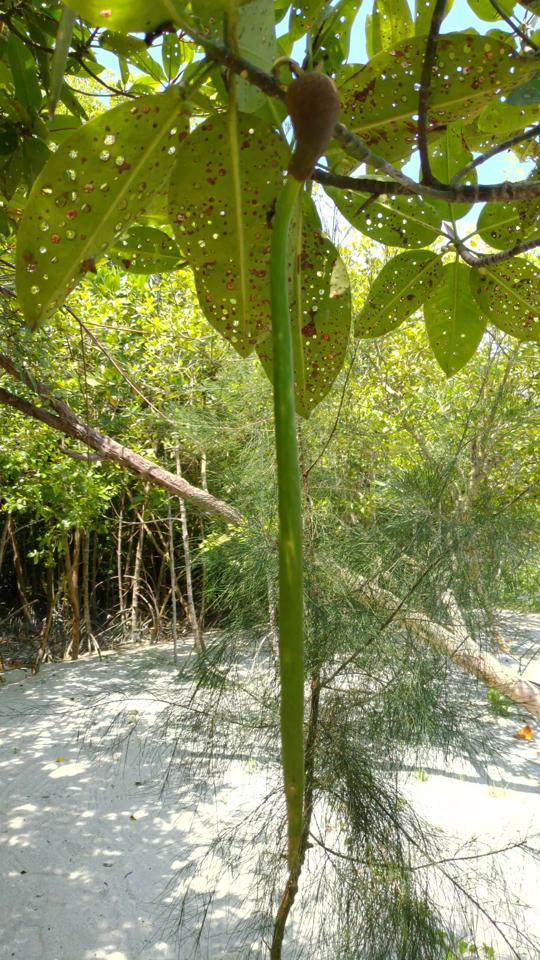mentah: (265, 55, 352, 900)
